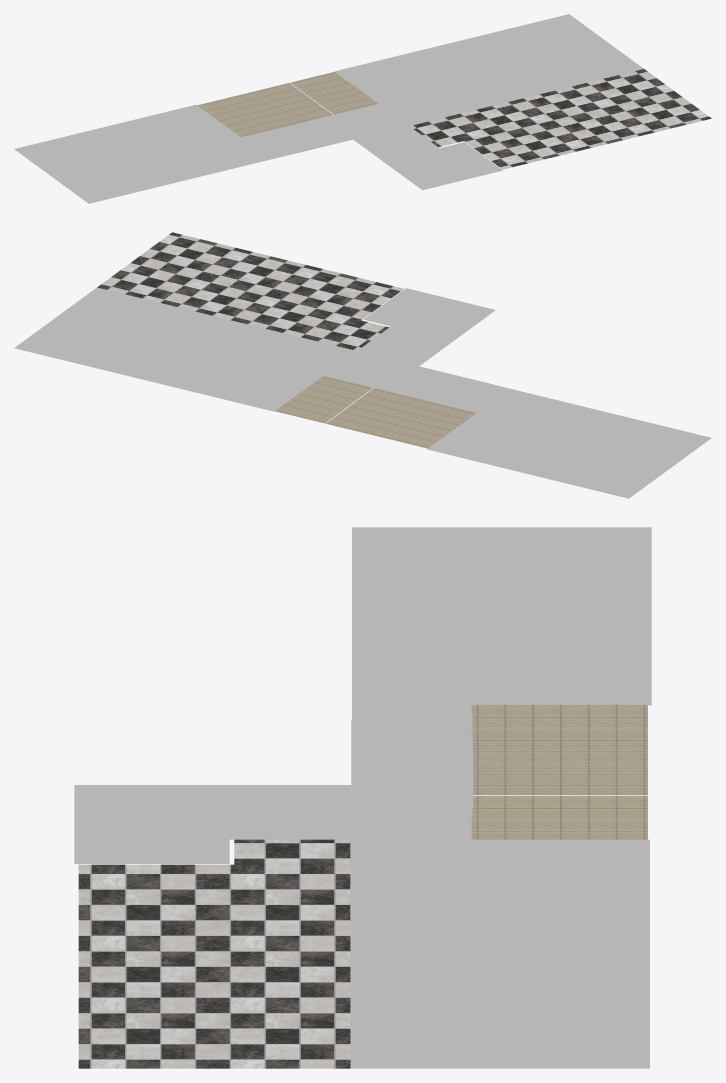
File: room_0_floor.obj
3 views of the same model, one above another, from view 1: azimuth 30°, elevation 25°; view 2: azimuth 150°, elevation 25°; view 3: azimuth 270°, elevation 25° (orthographic). The views are drawn at different scales.
Parts seen in each view (by area): view 1: Box002, Box003, Box001, Box006, Box004, Box005; view 2: Box002, Box003, Box001, Box006, Box004, Box005; view 3: Box002, Box003, Box001, Box006, Box004, Box005.
Boxes of the visible parts, <box> form: Box002: <box>335,14,643,125</box>; Box003: <box>410,69,711,169</box>; Box001: <box>14,104,286,203</box>; Box006: <box>257,104,502,190</box>; Box004: <box>197,83,332,136</box>; Box005: <box>290,71,378,114</box>; Box002: <box>14,287,356,411</box>; Box003: <box>97,232,403,350</box>; Box001: <box>427,384,711,498</box>; Box006: <box>323,288,495,408</box>; Box004: <box>326,388,476,448</box>; Box005: <box>275,376,373,423</box>; Box002: <box>350,839,649,1068</box>; Box003: <box>78,839,350,1068</box>; Box001: <box>352,527,651,720</box>; Box006: <box>74,720,472,863</box>; Box004: <box>471,704,647,794</box>; Box005: <box>471,795,647,839</box>.
Bounding box in the file's own units: 661 × 0 × 298.
